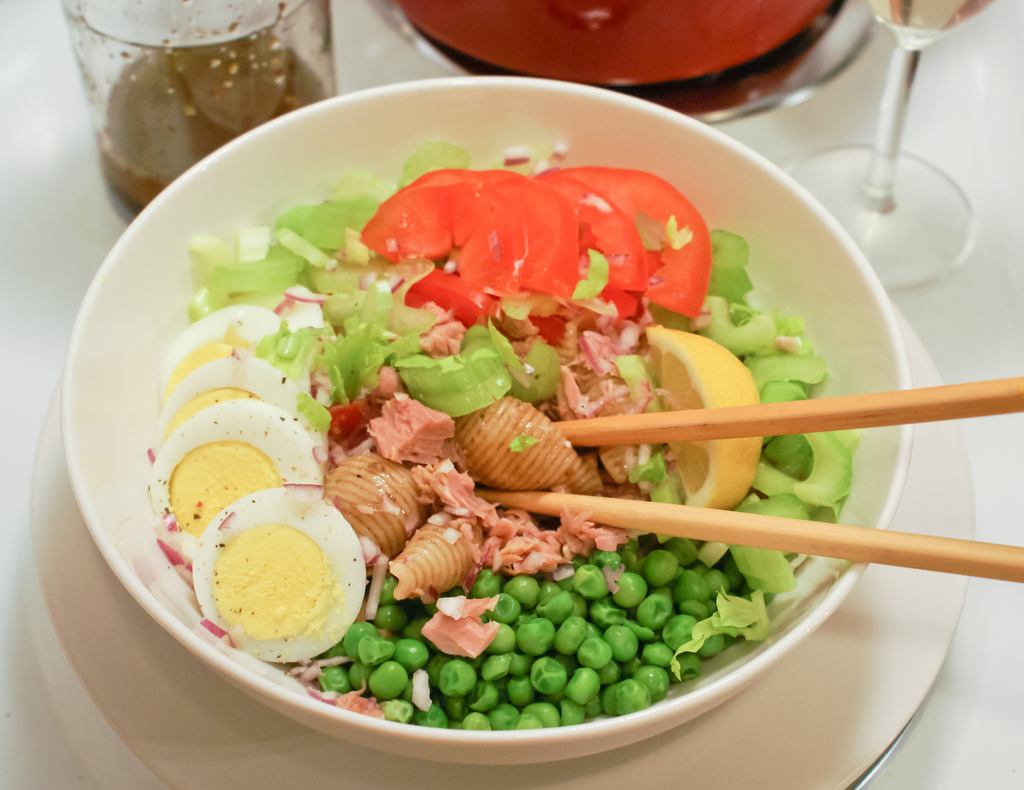boiled peas: (373, 530, 715, 732)
chopped lettuce: (220, 202, 490, 406)
fried egg: (194, 493, 355, 655), (156, 403, 312, 532), (157, 322, 293, 413)
glass of water: (829, 1, 981, 283)
